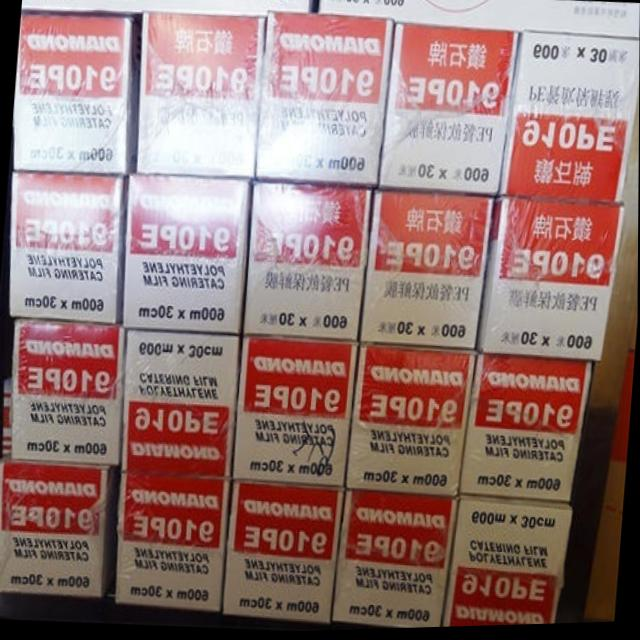box: (377, 24, 519, 200), (255, 12, 394, 191), (497, 34, 640, 206), (475, 199, 624, 364), (135, 11, 266, 180), (358, 191, 494, 352), (122, 173, 255, 337), (13, 9, 142, 176), (243, 182, 373, 343), (344, 343, 477, 500), (459, 357, 592, 503), (232, 337, 358, 489), (120, 328, 243, 481), (9, 171, 129, 324), (332, 489, 460, 631), (0, 453, 121, 598), (443, 496, 573, 630), (224, 481, 344, 624), (11, 318, 125, 467), (116, 474, 232, 614), (583, 352, 635, 626), (318, 0, 640, 43), (21, 0, 312, 18), (2, 374, 12, 456)
